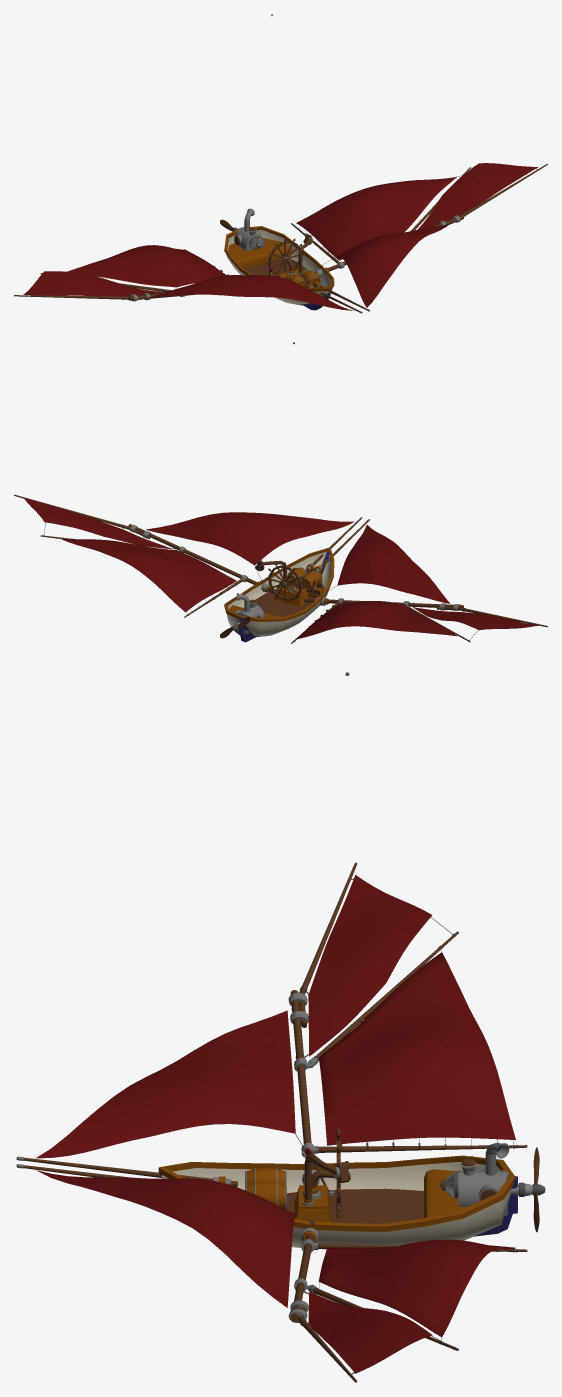
File: steampunk_ship.glb
3 renders of one model, top to bottom at view 1: azimuth 30°, elevation 25°; view 2: azimuth 150°, elevation 25°; view 3: azimuth 270°, elevation 25°, orthographic. The views are drawn at different scales.
Visible parts, largest first — view 1: pCube34, polySurface120, polySurface122, polySurface129, polySurface115; view 2: pCube34, polySurface122, polySurface129, polySurface115; view 3: pCube34, polySurface122, polySurface129, polySurface115, polySurface120, pCylinder82.
Part boxes in pixels (x1,y1,x2,y2): pCube34: (14, 163, 547, 313); polySurface120: (228, 238, 292, 268); polySurface122: (226, 230, 332, 305); polySurface129: (224, 226, 334, 291); polySurface115: (245, 258, 307, 276); pCube34: (14, 494, 547, 643); polySurface122: (227, 551, 331, 637); polySurface129: (224, 547, 334, 621); polySurface115: (255, 584, 324, 617); pCube34: (16, 862, 527, 1382); polySurface122: (161, 1162, 511, 1249); polySurface129: (158, 1155, 515, 1231); polySurface115: (286, 1188, 423, 1223); polySurface120: (424, 1169, 467, 1218); pCylinder82: (458, 1170, 508, 1215).
Size of the model in its own units: 32.37 by 16.22 by 13.9.
